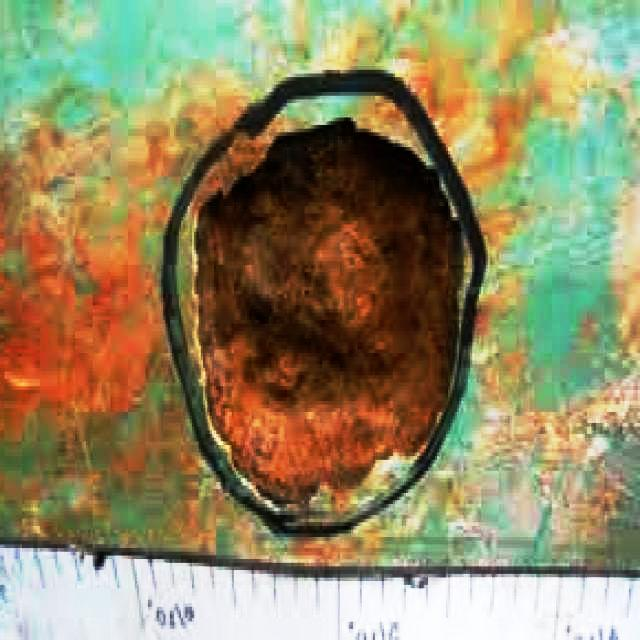Corrosion: (197, 120, 459, 506)
